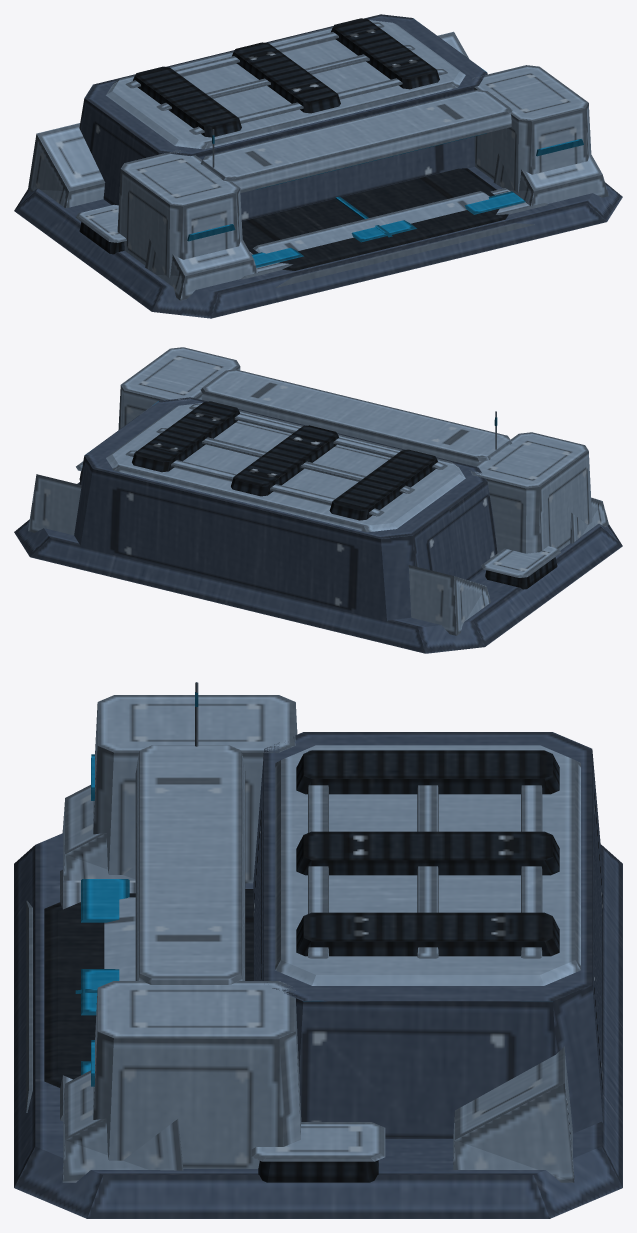
The model's file is building-airbase.fbx.
3 views of the same model, one above another, from view 1: azimuth 30°, elevation 25°; view 2: azimuth 150°, elevation 25°; view 3: azimuth 270°, elevation 25° (orthographic). The views are drawn at different scales.
Visible parts, largest first — view 1: building-airbase; view 2: building-airbase; view 3: building-airbase.
Boxes of the visible parts, x1=… form: building-airbase: x1=14, y1=14, x2=622, y2=318; building-airbase: x1=14, y1=347, x2=622, y2=653; building-airbase: x1=14, y1=682, x2=622, y2=1218.
Size of the model in its own units: 4368 by 1200 by 2912.
Materials: 1 (1 with a texture image).
